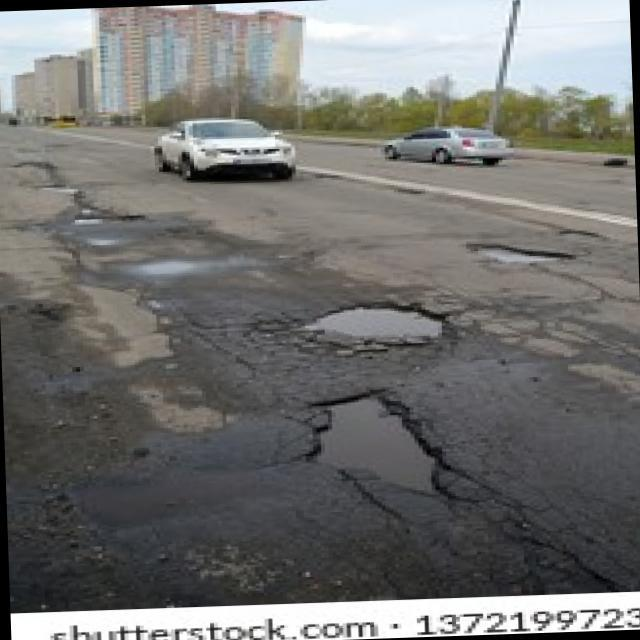Pothole: (304, 387, 444, 503), (300, 298, 453, 346), (470, 240, 572, 267), (71, 212, 141, 225), (562, 225, 602, 243), (38, 183, 82, 194), (393, 186, 421, 194)
